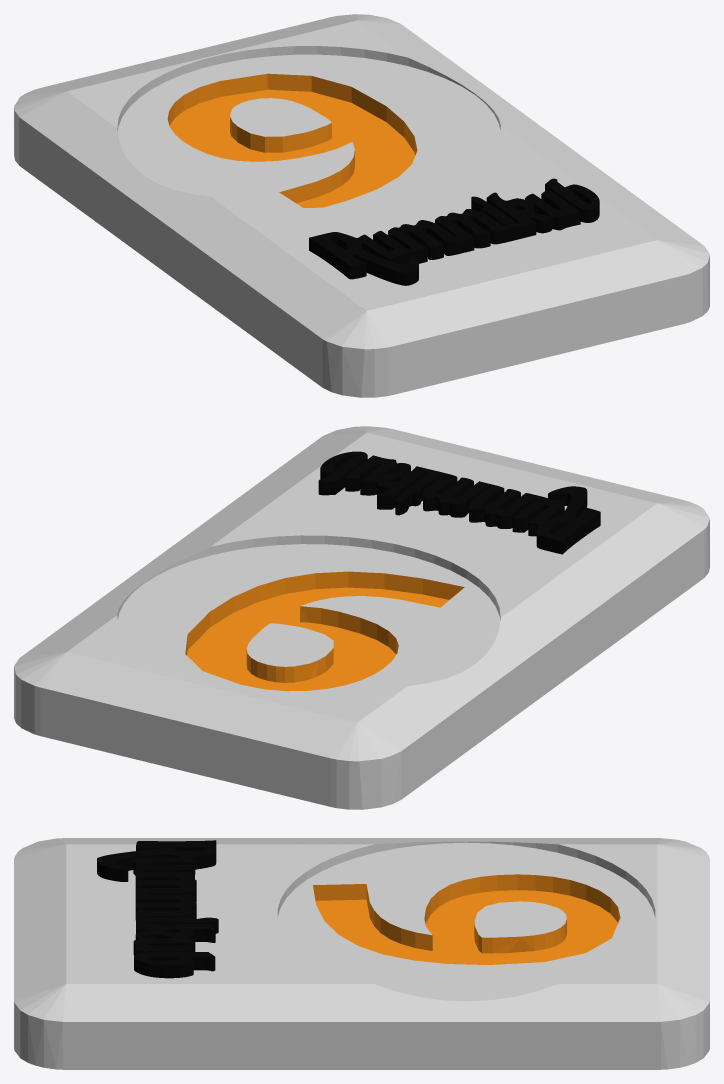
3 views of the same model, one above another, from view 1: azimuth 30°, elevation 25°; view 2: azimuth 150°, elevation 25°; view 3: azimuth 270°, elevation 25° (orthographic).
Parts seen in each view (by area): view 1: Rummikub 9 Fixed, Rummikub 1 Fixed.001; view 2: Rummikub 9 Fixed, Rummikub 1 Fixed.001; view 3: Rummikub 9 Fixed, Rummikub 1 Fixed.001.
Boxes of the visible parts, left/top/right/bottom form: Rummikub 9 Fixed: left=14, top=14, right=709, bottom=397; Rummikub 1 Fixed.001: left=309, top=178, right=599, bottom=285; Rummikub 9 Fixed: left=14, top=426, right=709, bottom=809; Rummikub 1 Fixed.001: left=318, top=451, right=600, bottom=554; Rummikub 9 Fixed: left=14, top=838, right=709, bottom=1069; Rummikub 1 Fixed.001: left=97, top=840, right=218, bottom=978.
Bounding box in the file's own units: 2499 × 486 × 4000.
